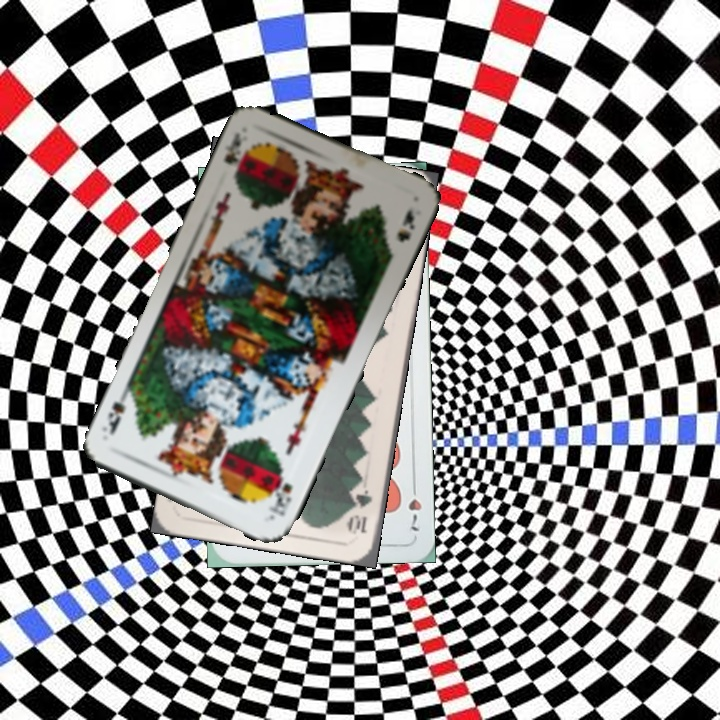G10: (346, 486, 375, 537)
H7: (404, 477, 424, 533)
SK: (219, 128, 251, 184), (264, 473, 295, 519)
